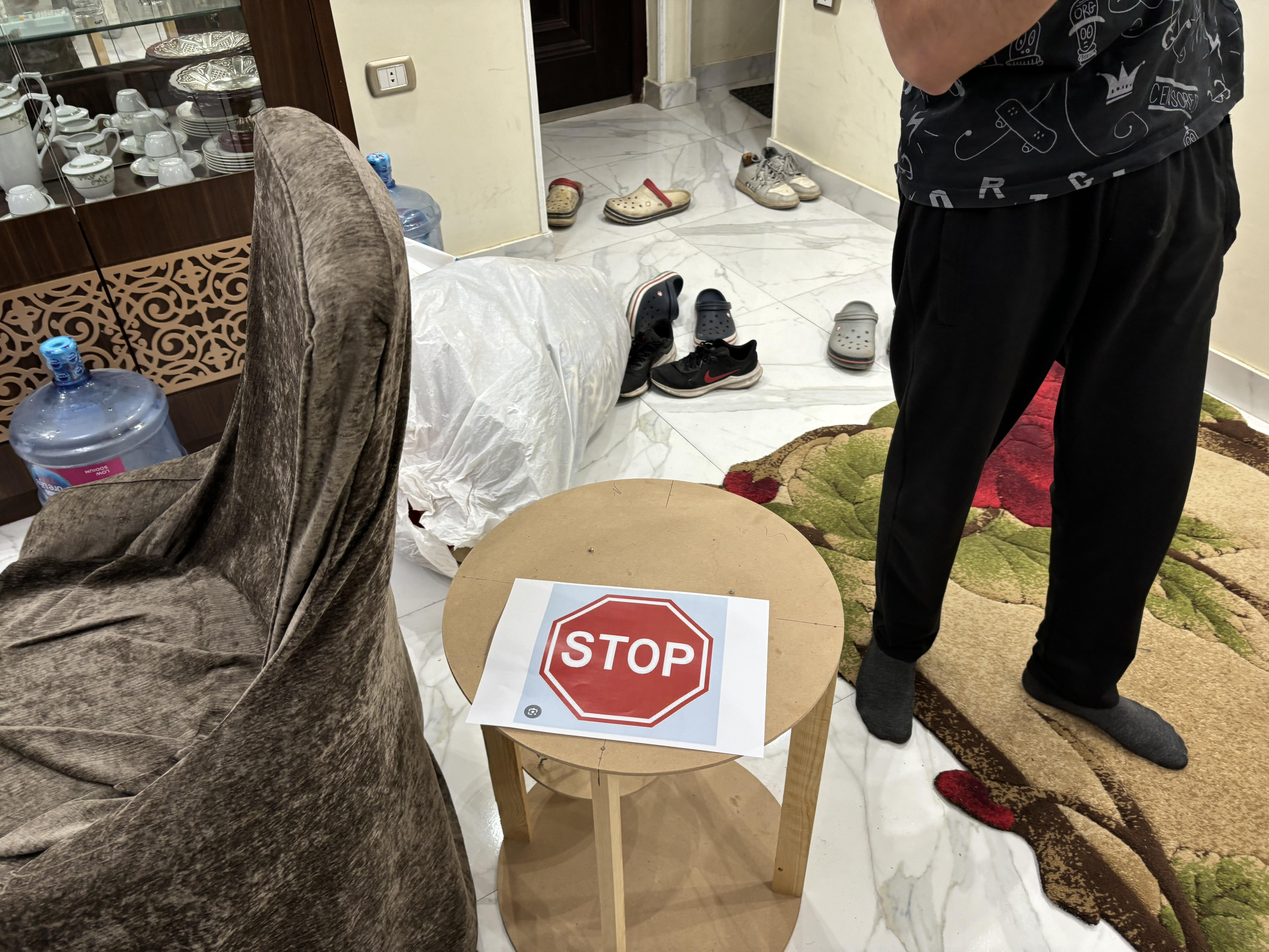Stop: (535, 589, 716, 732)
